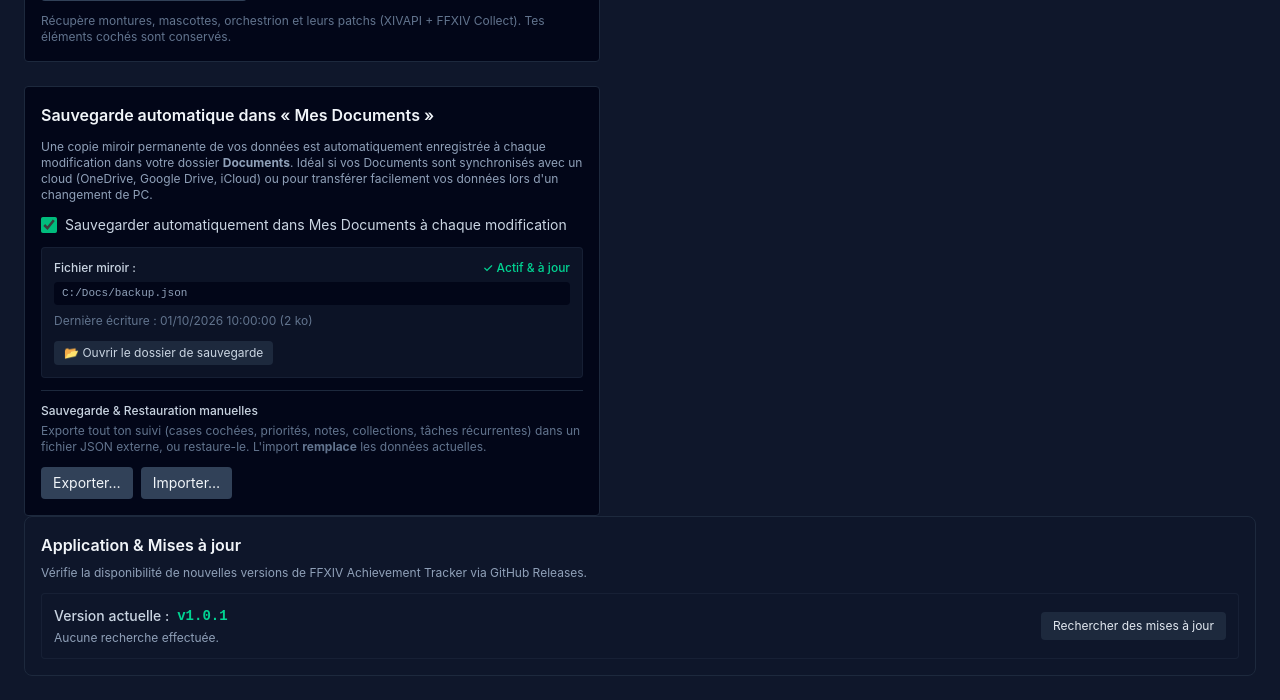
Scenario: BackupSection › reports export success and failure, and ignores a cancel
(page scrolled)
Click the button "Exporter…" at (87, 483), box [41, 467, 133, 499]
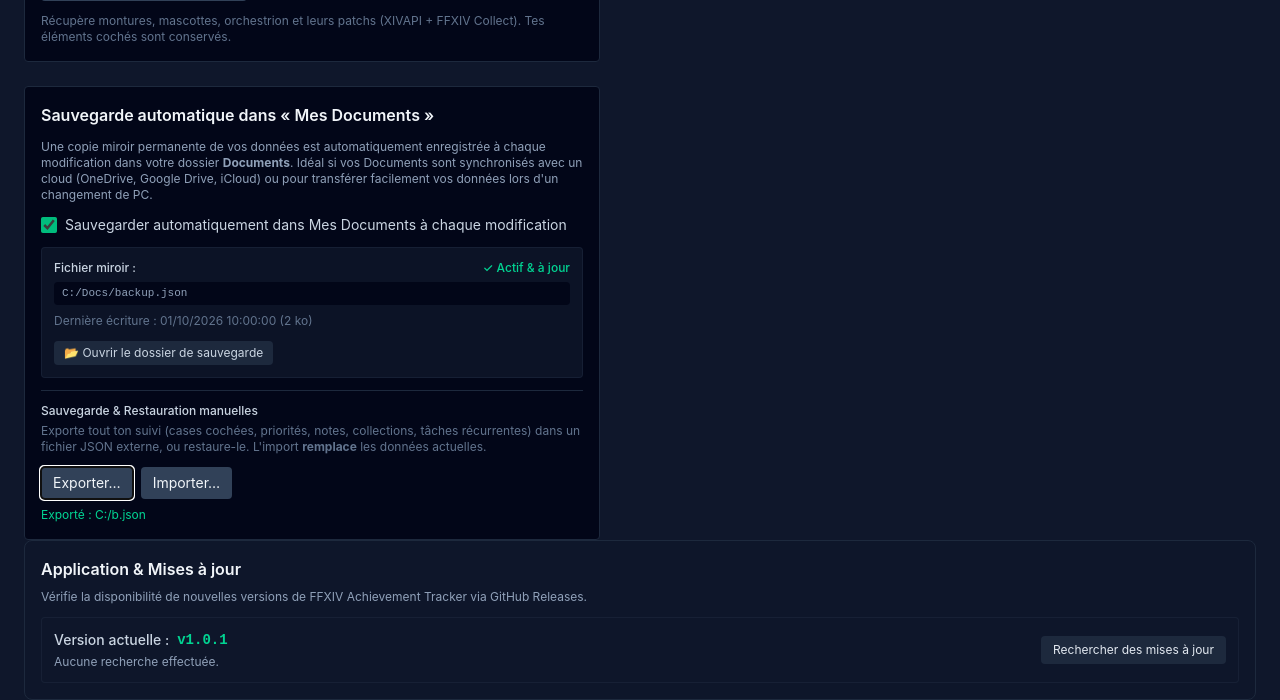
Now the text "Exporté : C:/b.json" is shown, box [41, 507, 146, 522]
Click the button "Exporter…" at (87, 483), box [41, 467, 133, 499]
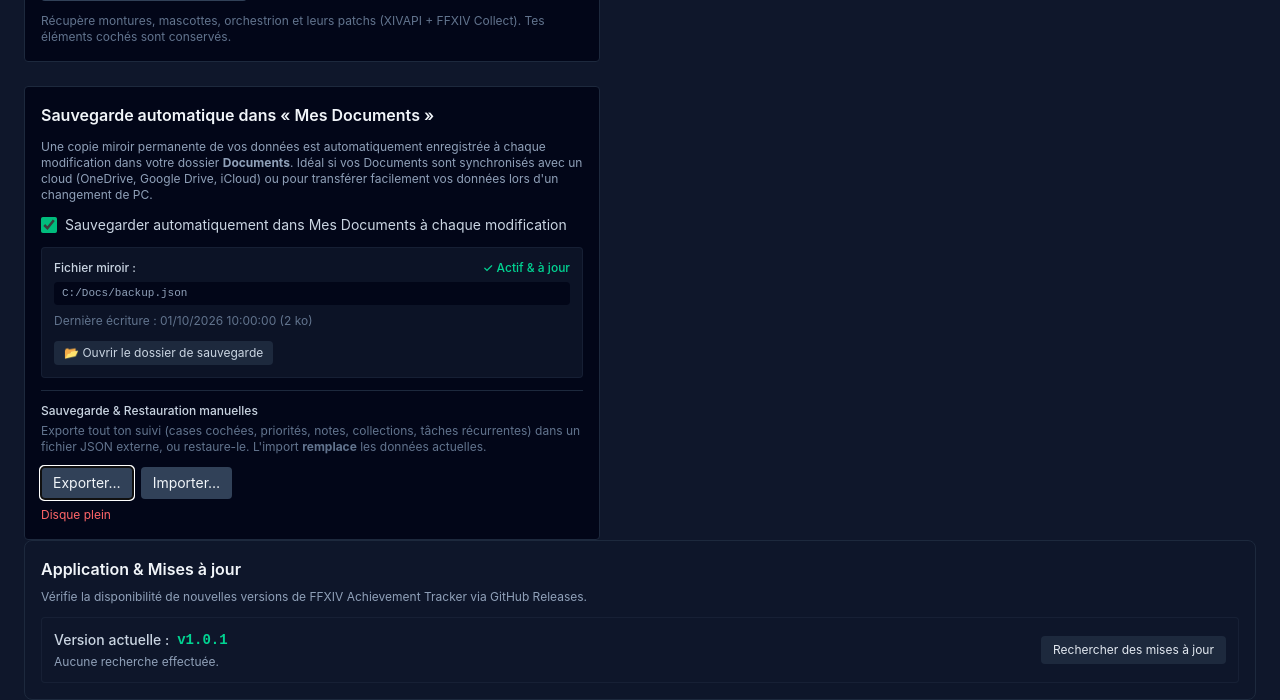
Now the text "Disque plein" has class "text-red-400", box [41, 507, 111, 522]
Click the button "Exporter…" at (87, 483), box [41, 467, 133, 499]
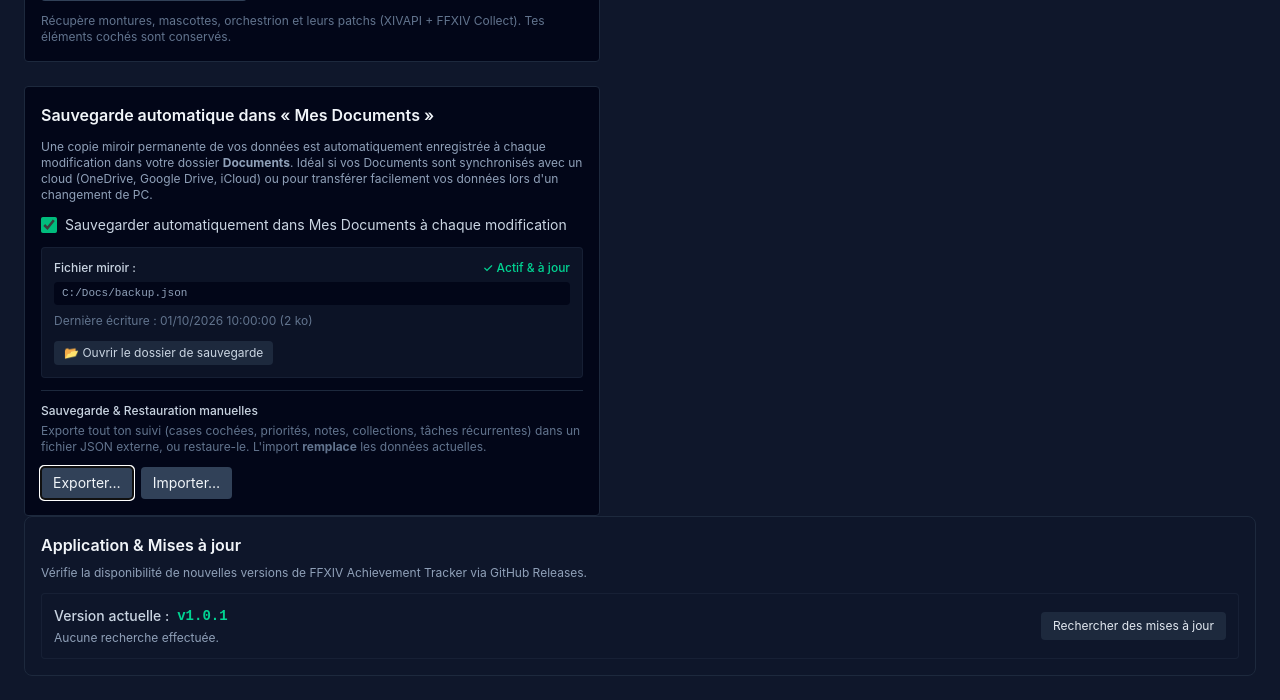
Now the text "Disque plein" is gone
